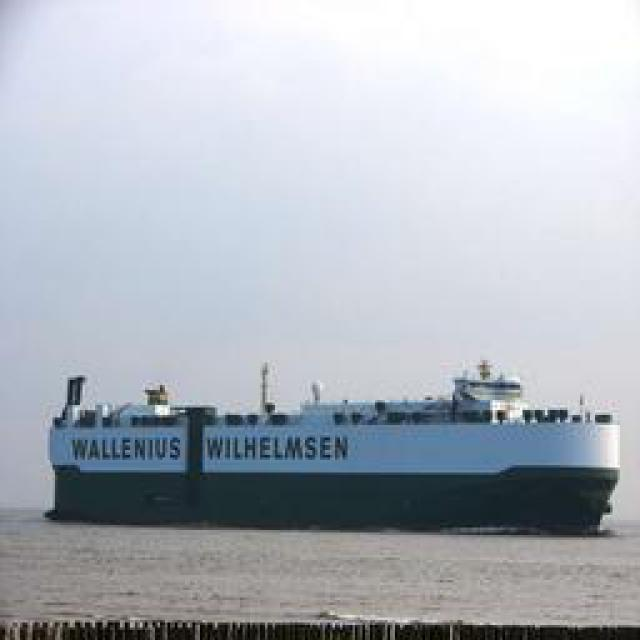Ship: (56, 355, 634, 533)
